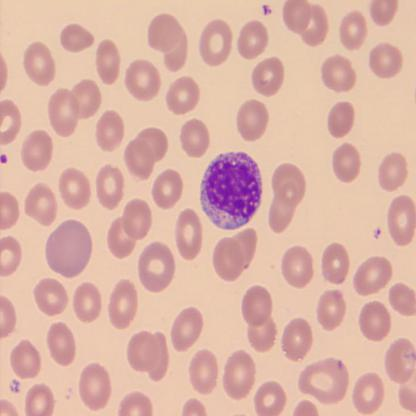Metamyelocyte: (197, 146, 265, 232)
